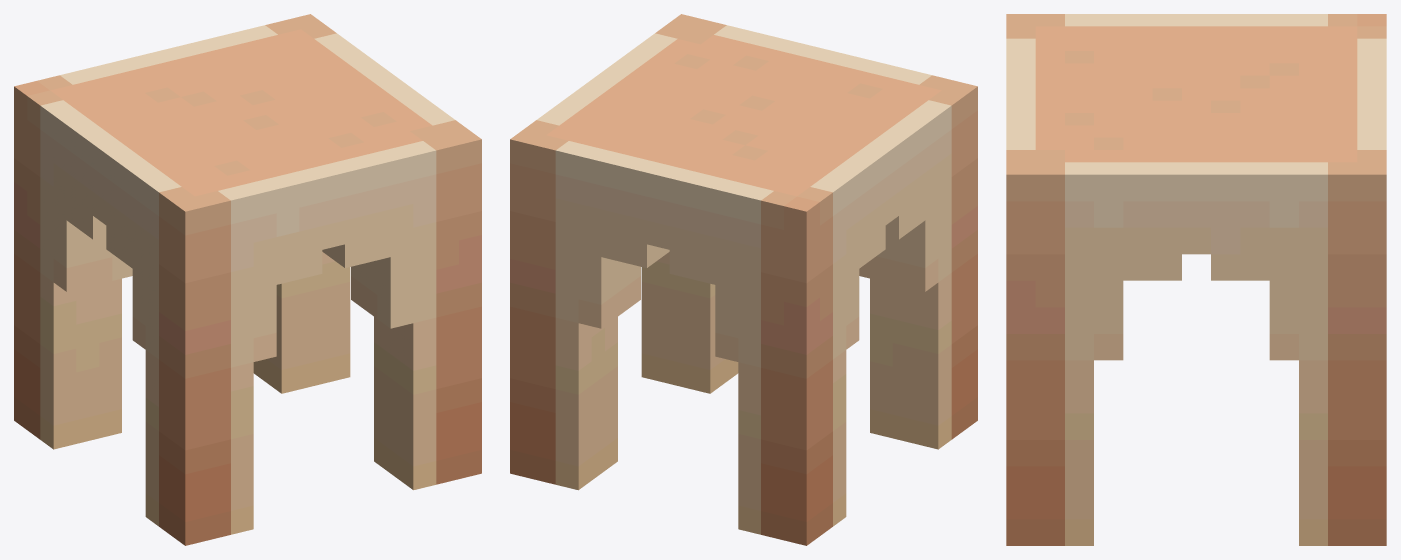
Rendered from tower-square-arch.glb.
3 views of the same model, side by side, from view 1: azimuth 30°, elevation 25°; view 2: azimuth 150°, elevation 25°; view 3: azimuth 270°, elevation 25° (orthographic). The views are drawn at different scales.
Parts seen in each view (by area): view 1: tower-square-arch; view 2: tower-square-arch; view 3: tower-square-arch.
Boxes of the visible parts, x1,y1,x2,y2 form: tower-square-arch: (14, 14, 481, 545); tower-square-arch: (510, 14, 977, 545); tower-square-arch: (1006, 14, 1386, 545).
Size of the model in its own units: 0.9386 by 1.01 by 0.9386.
1 material, 1 textured.
